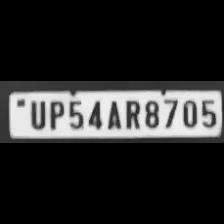0: (178, 97, 198, 129)
4: (84, 96, 104, 130)
5: (64, 98, 84, 130), (198, 97, 218, 129)
7: (160, 96, 178, 130)
8: (142, 98, 160, 130)
A: (103, 98, 121, 130)
P: (45, 99, 63, 131)
R: (123, 98, 141, 130)
U: (26, 98, 46, 130)
